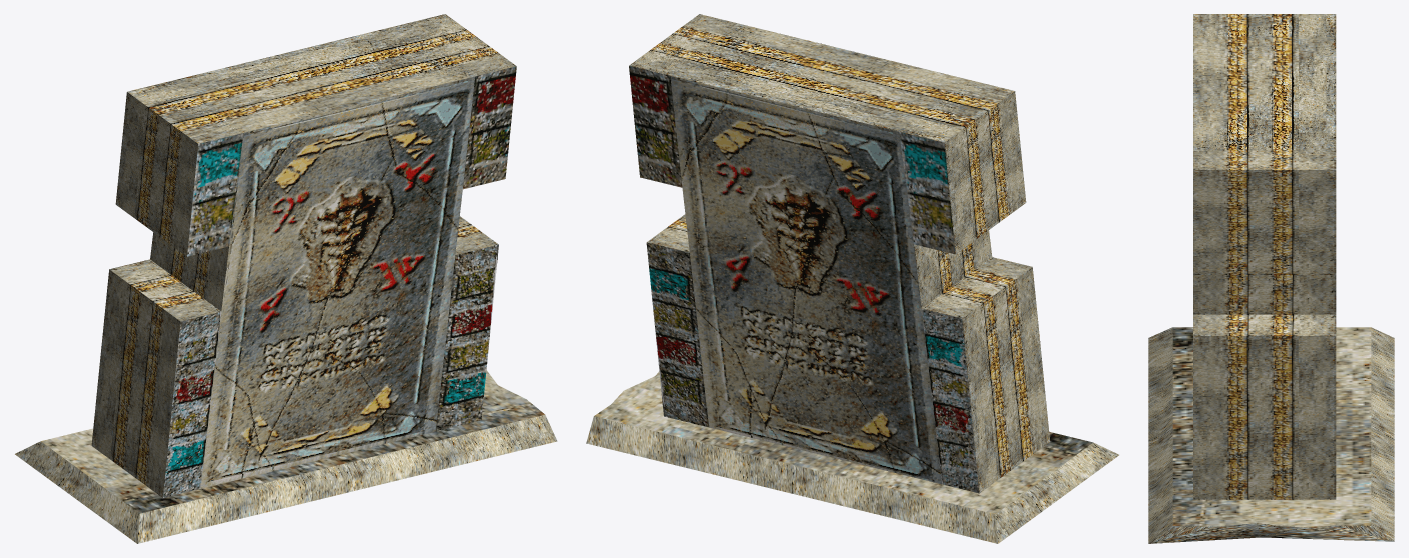
File: Totem_Large_Left.fbx
3 views of the same model, side by side, from view 1: azimuth 30°, elevation 25°; view 2: azimuth 150°, elevation 25°; view 3: azimuth 270°, elevation 25° (orthographic).
Parts seen in each view (by area): view 1: object_3; view 2: object_3; view 3: object_3.
Part boxes in pixels (left/top/right/bottom): object_3: left=15, top=14, right=557, bottom=543; object_3: left=586, top=14, right=1118, bottom=543; object_3: left=1148, top=14, right=1394, bottom=543.
Size of the model in its own units: 514 by 422 by 258.
